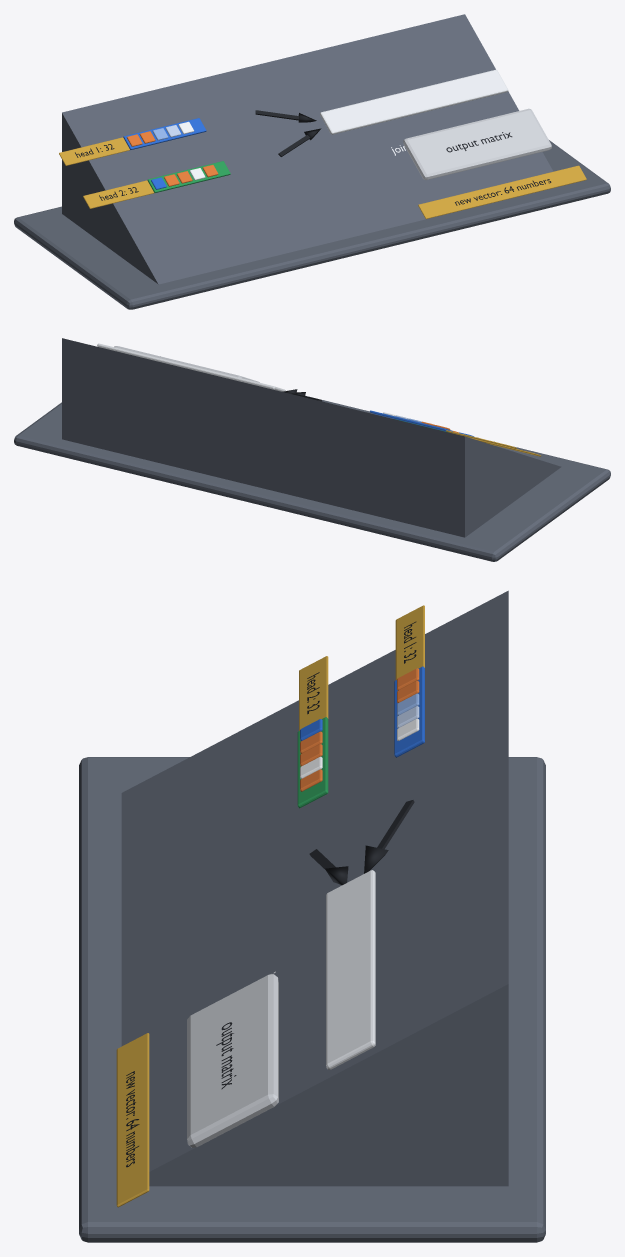
3 views of the same model, one above another, from view 1: azimuth 30°, elevation 25°; view 2: azimuth 150°, elevation 25°; view 3: azimuth 270°, elevation 25° (orthographic). The views are drawn at different scales.
Parts seen in each view (by area): view 1: slope, stand, p, bar.002, out_p, h1_p, h2_p, bar.001, bar, t1.001; view 2: slope, stand, bar.002, p; view 3: slope, stand, p, bar.002, out_p, h2_p, h1_p, bar.001, bar, t1.001.
Part boxes in pixels (<box>): slope: <box>62,14,553,284</box>; stand: <box>14,140,610,309</box>; p: <box>403,108,551,180</box>; bar.002: <box>320,69,508,134</box>; out_p: <box>418,165,586,219</box>; h1_p: <box>59,137,129,165</box>; h2_p: <box>83,180,154,208</box>; bar.001: <box>147,161,230,192</box>; bar: <box>123,118,206,149</box>; t1.001: <box>164,165,218,186</box>; slope: <box>62,338,561,537</box>; stand: <box>14,395,610,561</box>; bar.002: <box>97,343,285,391</box>; p: <box>114,346,259,382</box>; slope: <box>121,590,508,1186</box>; stand: <box>79,757,545,1242</box>; p: <box>187,974,278,1147</box>; bar.002: <box>326,870,375,1069</box>; out_p: <box>116,1033,149,1207</box>; h2_p: <box>299,656,328,730</box>; h1_p: <box>395,605,424,679</box>; bar.001: <box>297,717,328,808</box>; bar: <box>394,666,424,757</box>; t1.001: <box>300,731,322,791</box>.
Size of the model in its own units: 1.5 by 0.33 by 0.6269.
